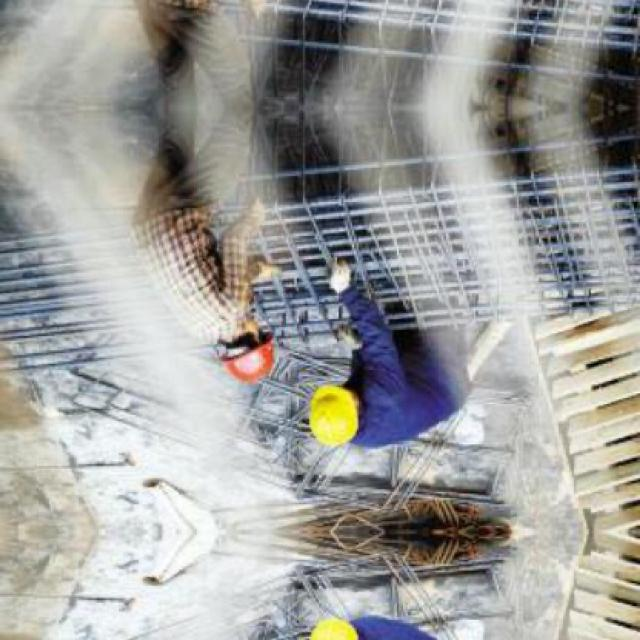con casco: (290, 363, 374, 487)
